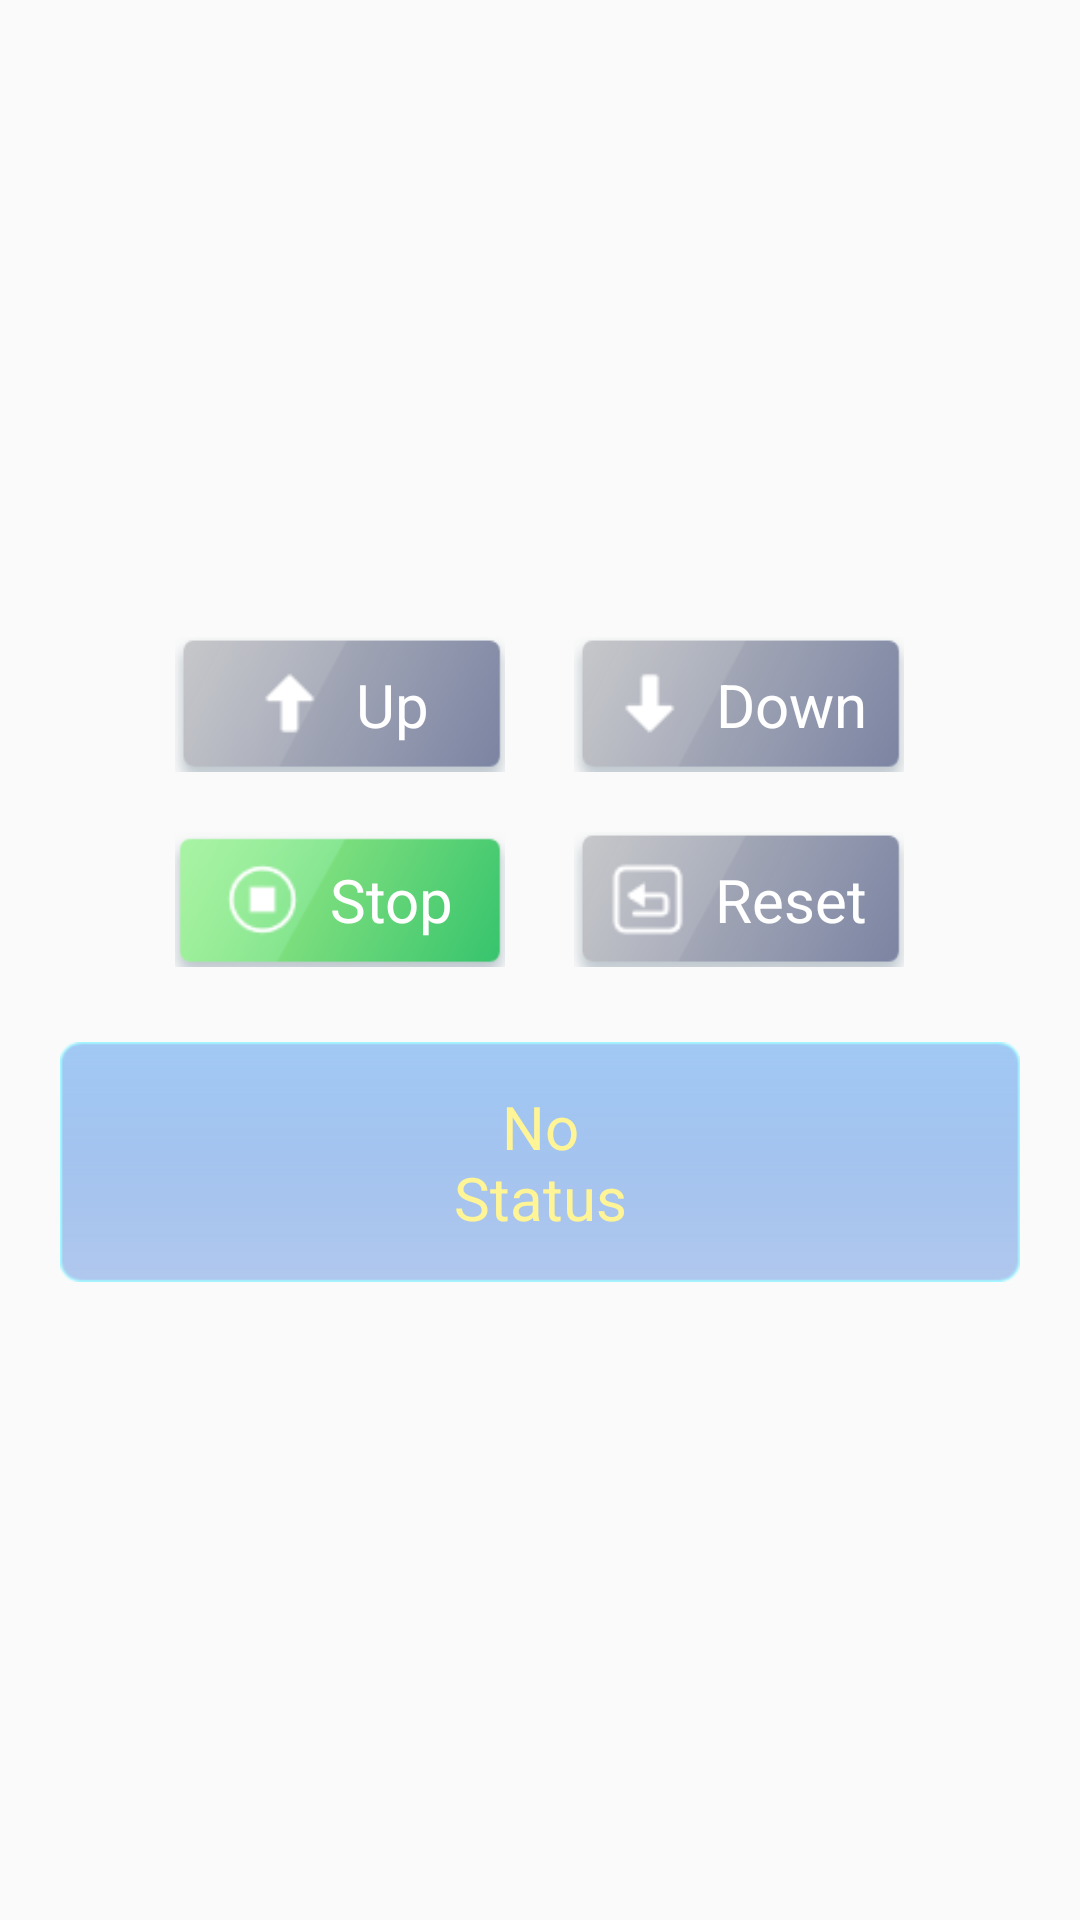

Where to tap for icons on this 1080px x 1920px app screen, as (x=x, y=y):
decline: (x=649, y=703)
reposition: (x=647, y=899)
rise: (x=289, y=703)
